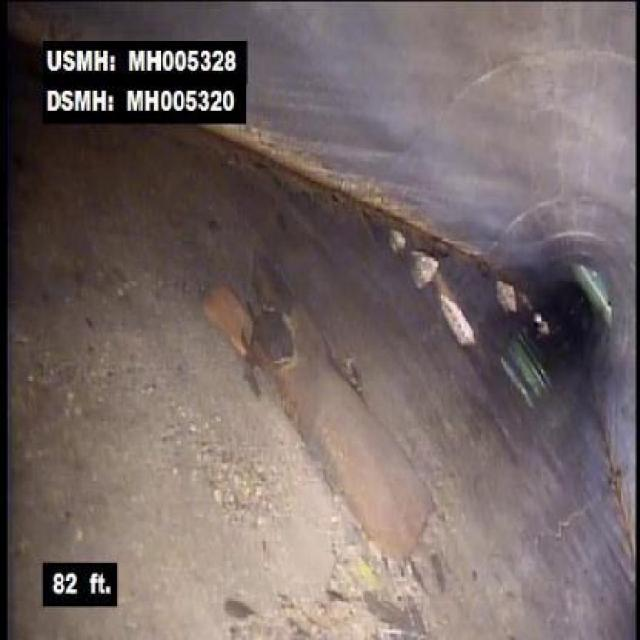Debris: (408, 252, 475, 348)
